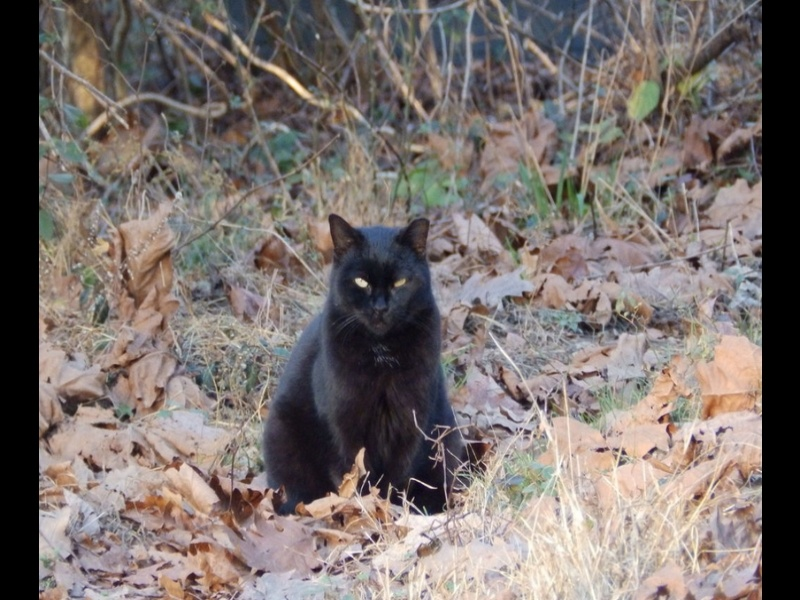cat: (261, 214, 478, 524)
